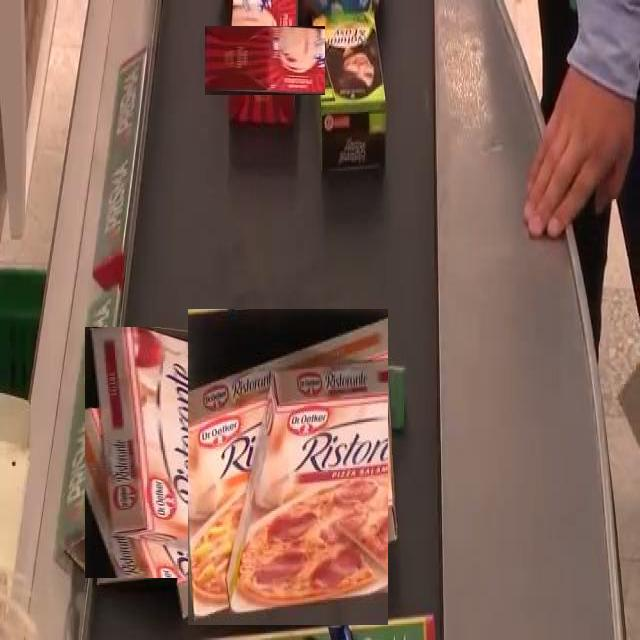food-box: (90, 321, 353, 584), (187, 308, 388, 625)
utility-box: (313, 17, 386, 171), (217, 13, 312, 108)
